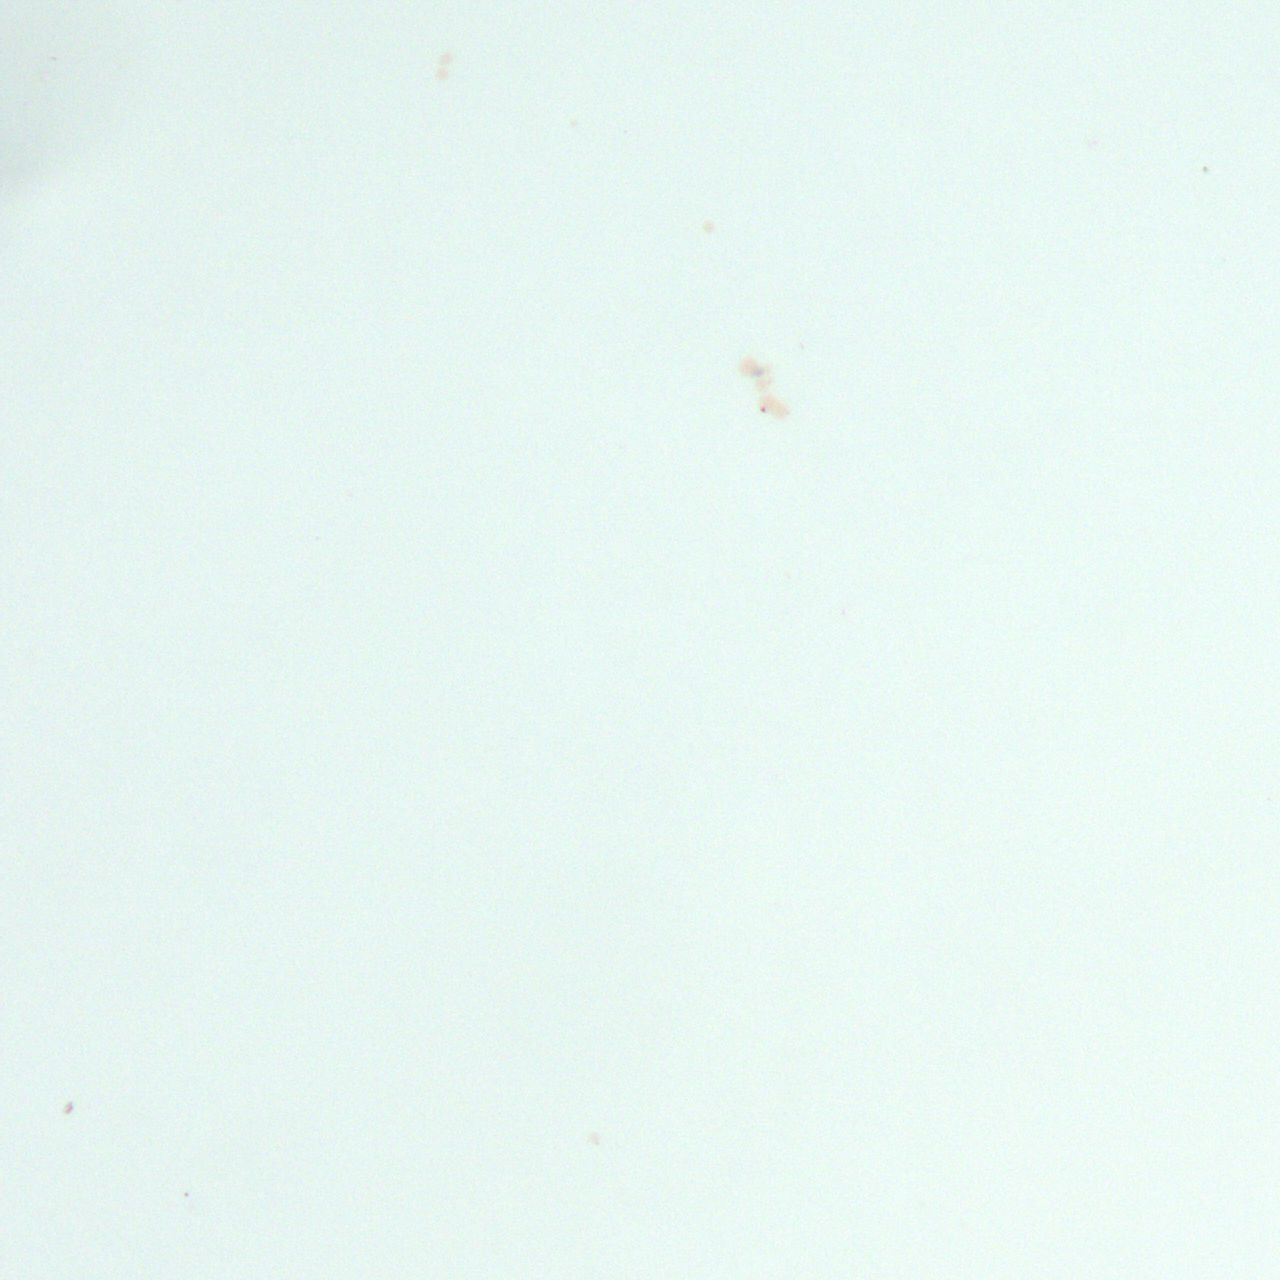dust: (62, 1102, 75, 1114), (760, 406, 767, 413), (1201, 165, 1207, 172), (184, 1192, 189, 1197)
